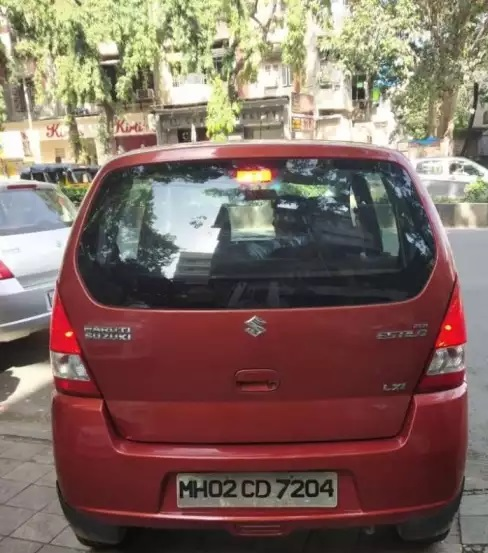licenseplate: (173, 469, 341, 511)
